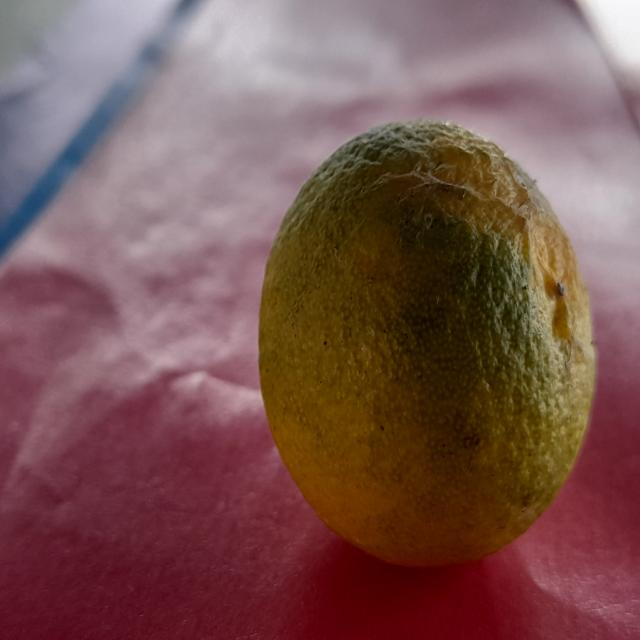greening: (258, 111, 588, 563)
